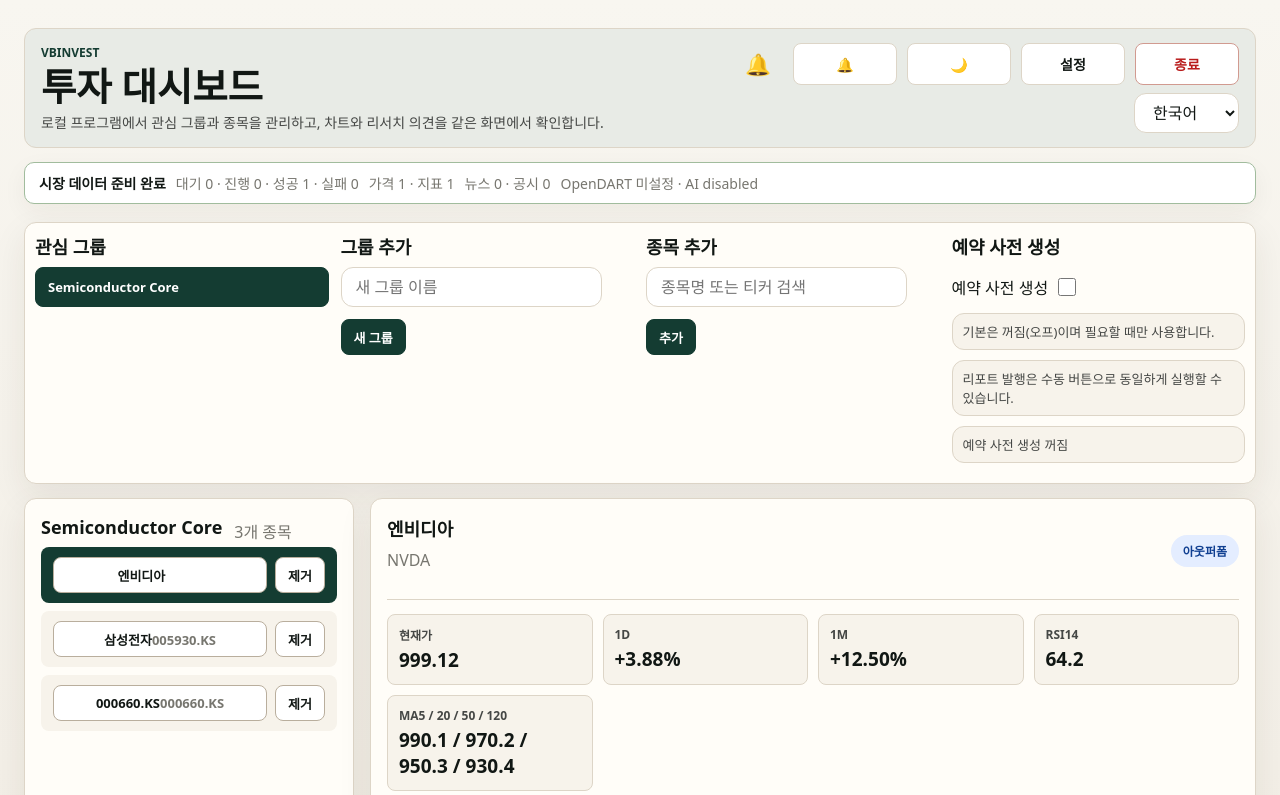
Test: WatchlistDashboard › creates a new group via POST /api/watchlists and adds a symbol via POST /api/watchlists/{id}/assets
This screenshot has width=1280, height=795.
Expected: the button "새 그룹" is enabled, [340, 319, 406, 355]
Type "QA Persist" into the field labelled "새 그룹 이름".
click(471, 287); type("QA Persist")  # box [340, 267, 602, 307]
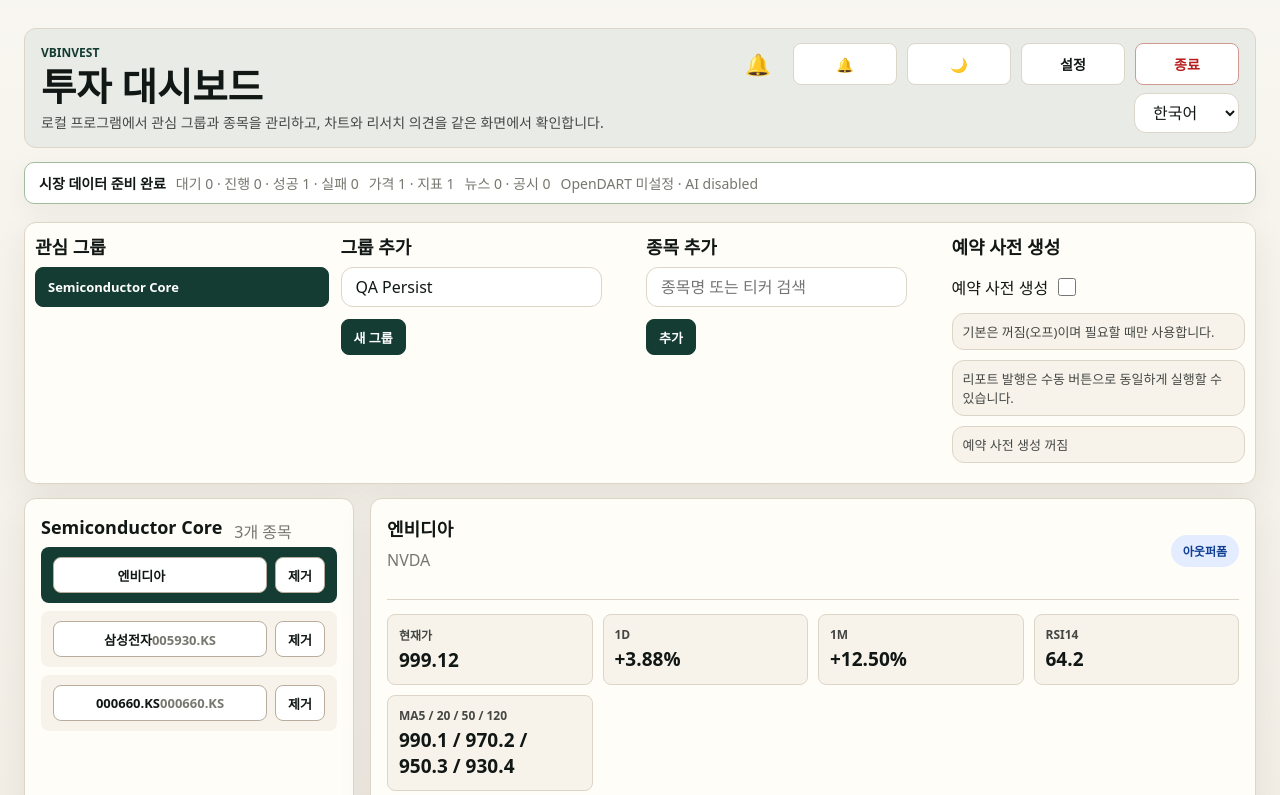
Click the button "새 그룹".
click(373, 337)  # box [340, 319, 406, 355]
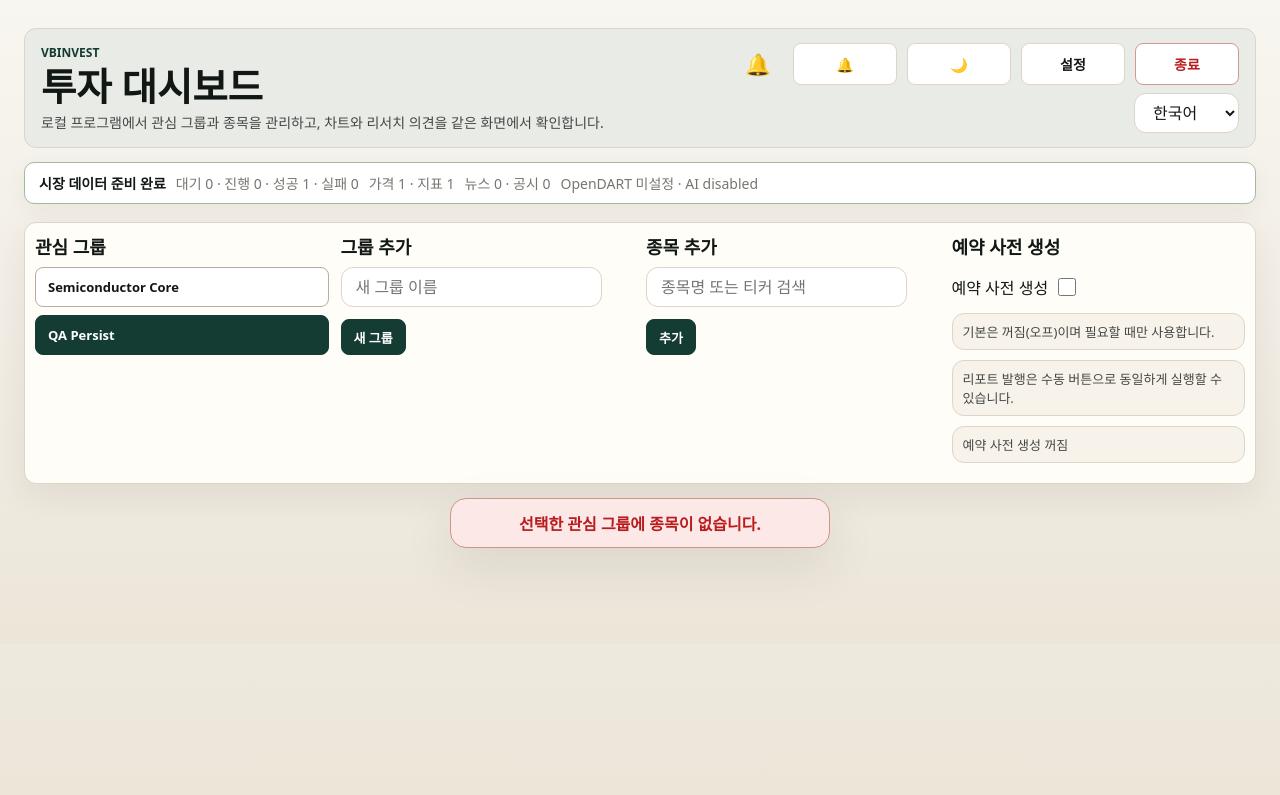
Result: the button "QA Persist" is shown at [35, 315, 328, 355]
Result: the text "선택한 관심 그룹에 종목이 없습니다." is shown at [450, 498, 830, 548]
Result: the button with test id "symbol-NVDA" is gone
Type "AAPL" into the field named "새 종목 심볼".
click(776, 287); type("AAPL")  # box [646, 267, 907, 307]
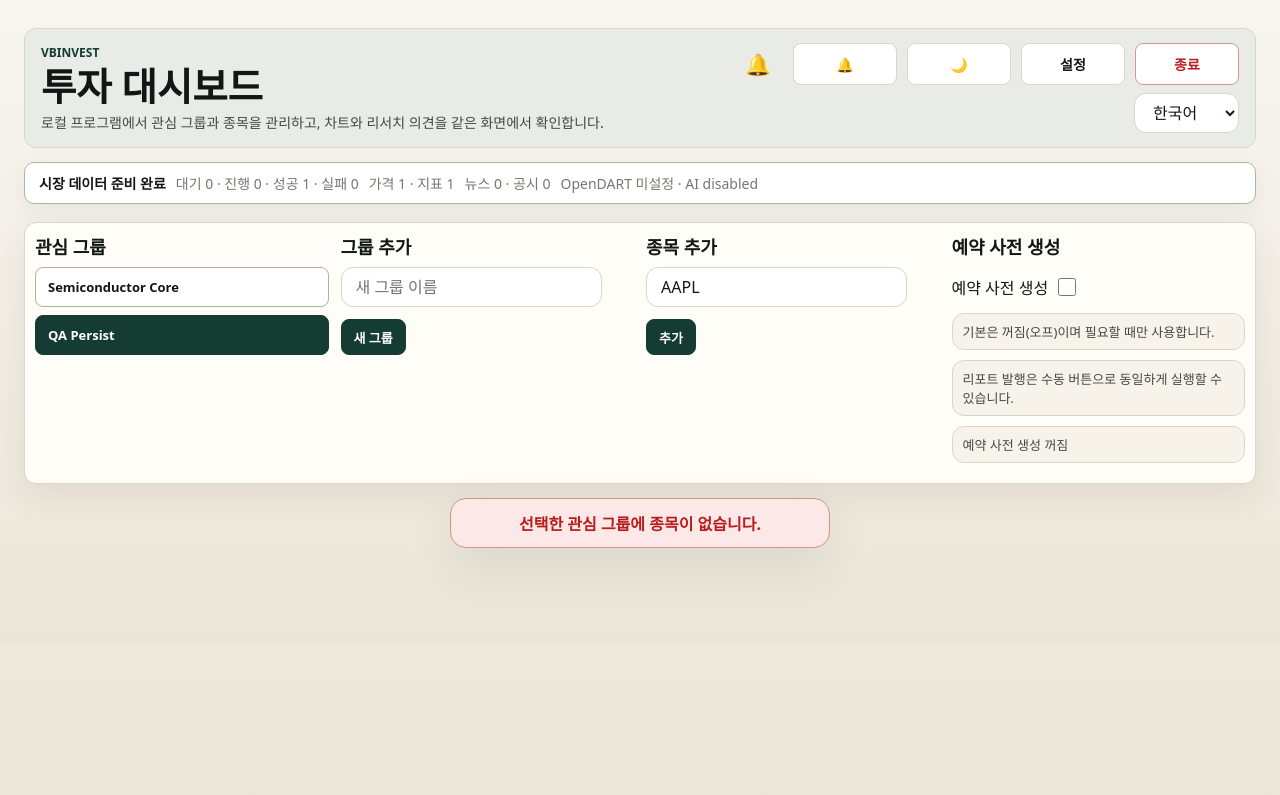
Click the button "추가".
click(671, 337)  # box [646, 319, 696, 355]
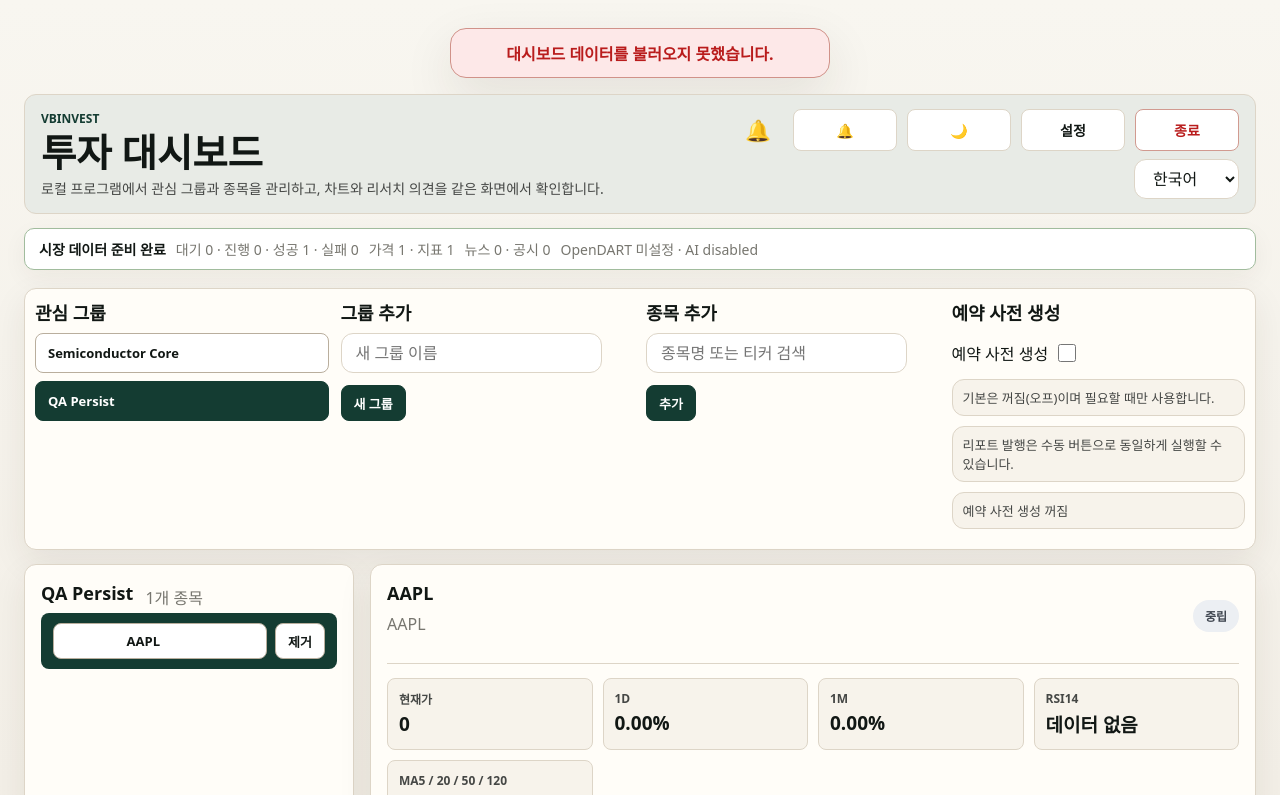
Result: the button with test id "symbol-AAPL" shows "AAPL" at [53, 623, 267, 659]
Result: the heading "AAPL" is shown at [387, 581, 433, 605]
